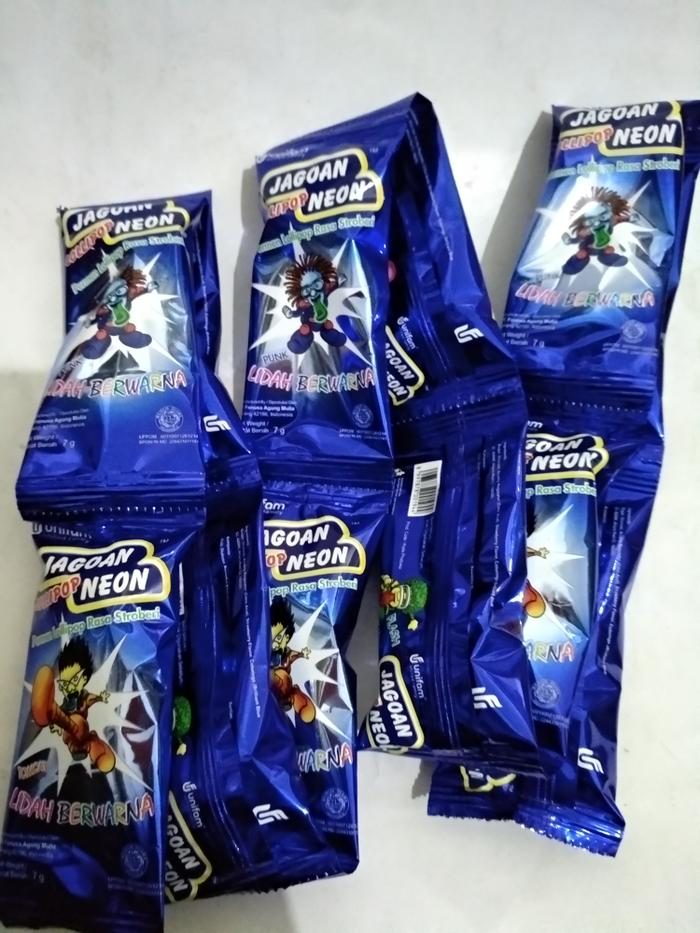jagoan_neon: (426, 400, 664, 856), (4, 509, 206, 933), (14, 192, 207, 509), (501, 102, 700, 408), (243, 112, 399, 487), (258, 482, 390, 875)
